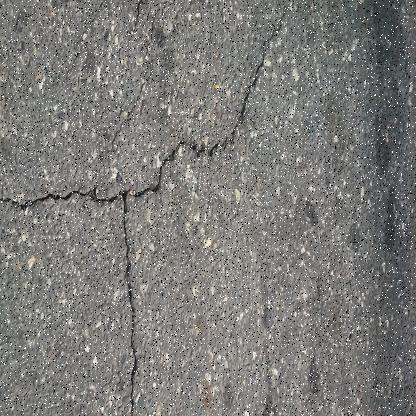Cracks: (0, 8, 289, 215), (114, 183, 142, 416)
